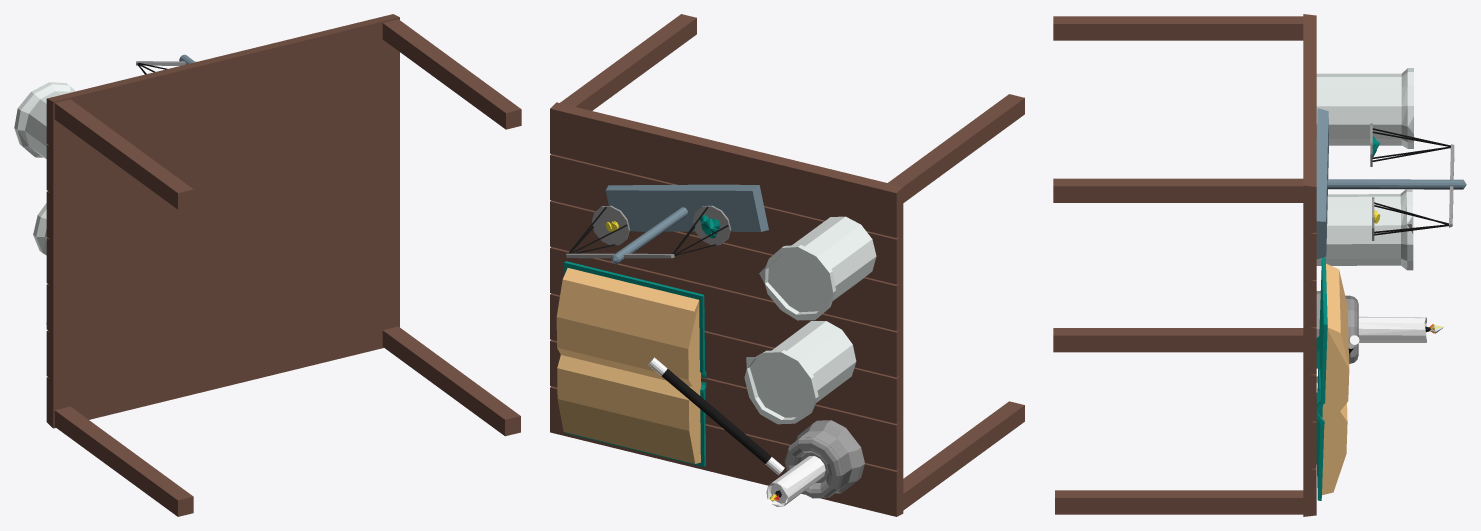
The model's file is Hidden_wizard table.fbx.
The picture shows the model from 3 angles, left to right: view 1: azimuth 30°, elevation 25°; view 2: azimuth 150°, elevation 25°; view 3: azimuth 270°, elevation 25°; orthographic projection.
Visible parts, largest first — view 1: imagetostl_mesh2, imagetostl_mesh3, imagetostl_mesh6, imagetostl_mesh0, imagetostl_mesh1, imagetostl_mesh5, imagetostl_mesh4, imagetostl_mesh10, imagetostl_mesh7, imagetostl_mesh9, imagetostl_mesh11, imagetostl_mesh8; view 2: imagetostl_mesh15, imagetostl_mesh6, imagetostl_mesh4, imagetostl_mesh3, imagetostl_mesh8, imagetostl_mesh13, imagetostl_mesh5, imagetostl_mesh39, imagetostl_mesh0, imagetostl_mesh1, imagetostl_mesh2, imagetostl_mesh7 (+10 smaller); view 3: imagetostl_mesh8, imagetostl_mesh7, imagetostl_mesh10, imagetostl_mesh9, imagetostl_mesh11, imagetostl_mesh13, imagetostl_mesh15, imagetostl_mesh39, imagetostl_mesh6, imagetostl_mesh32, imagetostl_mesh16, imagetostl_mesh31 (+7 smaller).
Part boxes in pixels (x1,y1,x2,y2): imagetostl_mesh2: [46, 203, 399, 335]; imagetostl_mesh3: [46, 157, 399, 288]; imagetostl_mesh6: [46, 14, 399, 149]; imagetostl_mesh0: [46, 296, 399, 428]; imagetostl_mesh1: [46, 250, 399, 381]; imagetostl_mesh5: [46, 64, 399, 194]; imagetostl_mesh4: [46, 112, 399, 242]; imagetostl_mesh10: [54, 406, 193, 516]; imagetostl_mesh7: [54, 99, 193, 209]; imagetostl_mesh9: [382, 19, 521, 129]; imagetostl_mesh11: [382, 326, 520, 436]; imagetostl_mesh8: [14, 82, 75, 159]; imagetostl_mesh15: [556, 268, 700, 463]; imagetostl_mesh6: [550, 102, 903, 237]; imagetostl_mesh4: [550, 200, 903, 330]; imagetostl_mesh3: [550, 247, 903, 377]; imagetostl_mesh8: [759, 216, 876, 320]; imagetostl_mesh13: [744, 321, 856, 424]; imagetostl_mesh5: [550, 154, 903, 284]; imagetostl_mesh39: [605, 184, 768, 264]; imagetostl_mesh0: [550, 386, 903, 516]; imagetostl_mesh1: [550, 340, 903, 470]; imagetostl_mesh2: [550, 293, 903, 423]; imagetostl_mesh7: [888, 94, 1024, 202]; imagetostl_mesh8: [1316, 68, 1413, 148]; imagetostl_mesh7: [1053, 16, 1303, 40]; imagetostl_mesh10: [1053, 328, 1303, 352]; imagetostl_mesh9: [1053, 178, 1303, 202]; imagetostl_mesh11: [1055, 490, 1303, 514]; imagetostl_mesh13: [1316, 189, 1413, 270]; imagetostl_mesh15: [1322, 263, 1349, 494]; imagetostl_mesh39: [1316, 108, 1466, 259]; imagetostl_mesh6: [1303, 14, 1316, 233]; imagetostl_mesh32: [1358, 316, 1426, 342]; imagetostl_mesh16: [1319, 257, 1327, 401]; imagetostl_mesh31: [1316, 291, 1358, 368].
Size of the model in its own units: 242 by 218 by 247.
